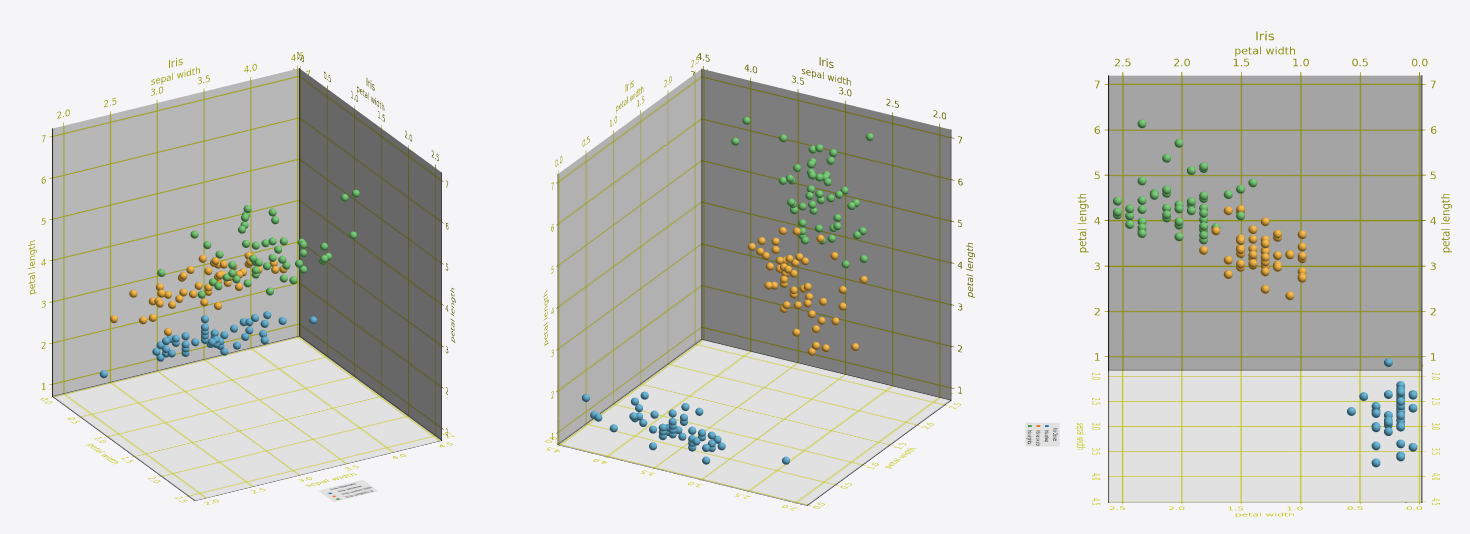
Rendered from iris.glb.
3 renders of one model, left to right at view 1: azimuth 30°, elevation 25°; view 2: azimuth 150°, elevation 25°; view 3: azimuth 270°, elevation 25°, orthographic. The views are drawn at different scales.
Parts seen in each view (by area): view 1: xy, zy, xz, lc=_; view 2: -xy, zy, xz; view 3: -zy, xz, lc=_.
Boxes of the visible parts, bbox=[...] form: xy: bbox=[28, 52, 309, 396]; zy: bbox=[293, 52, 455, 440]; xz: bbox=[40, 336, 454, 504]; lc=_: bbox=[318, 480, 377, 501]; -xy: bbox=[691, 53, 974, 400]; zy: bbox=[543, 56, 707, 444]; xz: bbox=[545, 339, 960, 510]; -zy: bbox=[1077, 31, 1451, 370]; xz: bbox=[1075, 364, 1439, 517]; lc=_: bbox=[1025, 422, 1059, 446].
Size of the model in its own units: 0.9542 by 0.9365 by 1.06.
9 materials, 6 textured.
